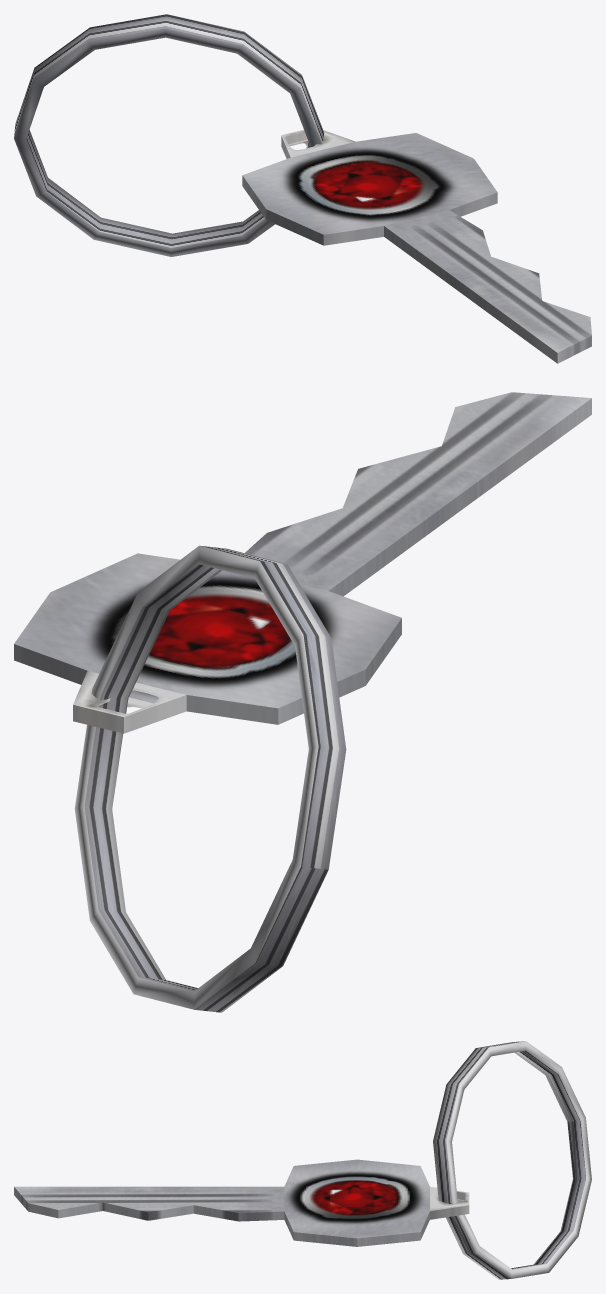
File: key_j_ruby.fbx
3 views of the same model, one above another, from view 1: azimuth 30°, elevation 25°; view 2: azimuth 150°, elevation 25°; view 3: azimuth 270°, elevation 25° (orthographic). The views are drawn at different scales.
Visible parts, largest first — view 1: key_j_ruby; view 2: key_j_ruby; view 3: key_j_ruby.
Boxes of the visible parts, x1,y1,x2,y2 form: key_j_ruby: (14, 14, 591, 363); key_j_ruby: (14, 392, 591, 1012); key_j_ruby: (14, 1041, 591, 1279).
Bounding box in the file's own units: 10.09 × 8.2 × 20.15.
Materials: 1 (1 with a texture image).
